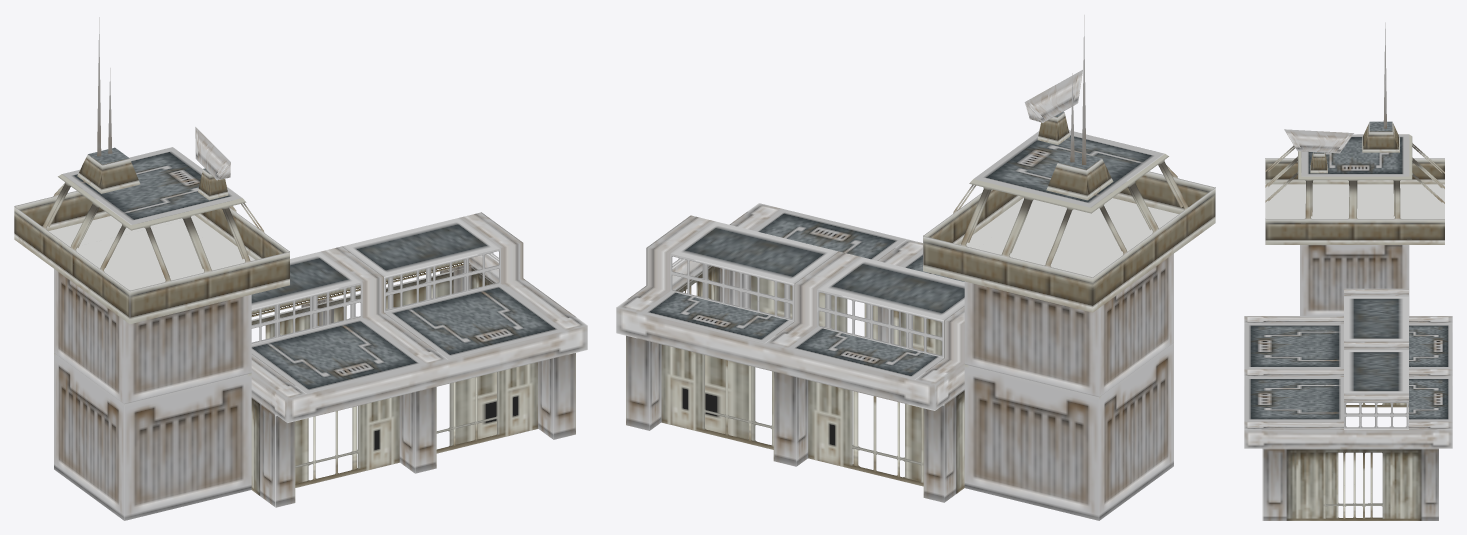
The model's file is s_gatecontrol.glb.
3 views of the same model, side by side, from view 1: azimuth 30°, elevation 25°; view 2: azimuth 150°, elevation 25°; view 3: azimuth 270°, elevation 25° (orthographic). The views are drawn at different scales.
Parts seen in each view (by area): view 1: S_GateControl, LitWin_SGatecon, Base01; view 2: S_GateControl, LitWin_SGatecon, Base01, Base, LOS_Antennae; view 3: S_GateControl, LitWin_SGatecon, Base01, Base.
Boxes of the visible parts, x1,y1,x2,y2 form: S_GateControl: (14, 147, 587, 520); LitWin_SGatecon: (47, 185, 536, 487); Base01: (195, 127, 230, 180); S_GateControl: (616, 130, 1215, 520); LitWin_SGatecon: (662, 164, 1182, 486); Base01: (1024, 70, 1082, 122); Base: (1037, 111, 1069, 144); LOS_Antennae: (1070, 15, 1086, 164); S_GateControl: (1244, 121, 1452, 520); LitWin_SGatecon: (1268, 145, 1442, 518); Base01: (1284, 129, 1353, 153); Base: (1310, 152, 1327, 173).
Size of the model in its own units: 22.19 by 21.96 by 11.63.
Materials: 1 (1 with a texture image).
